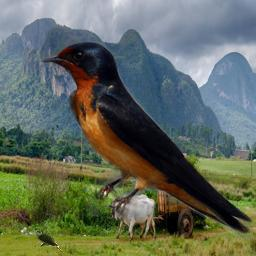Cuckoo: (34, 230, 63, 252)
Swallow: (39, 41, 253, 239)
